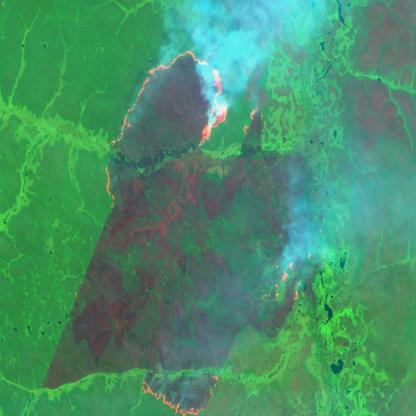fire: (100, 46, 259, 210), (135, 371, 221, 416), (258, 253, 306, 324)
